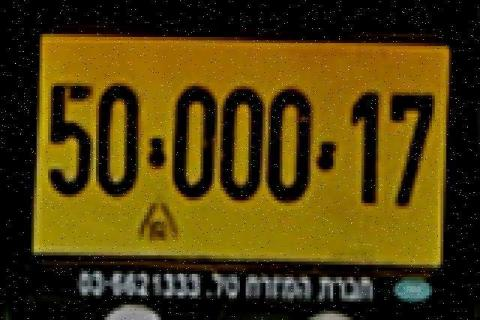LicensePlate: (25, 12, 459, 312)
